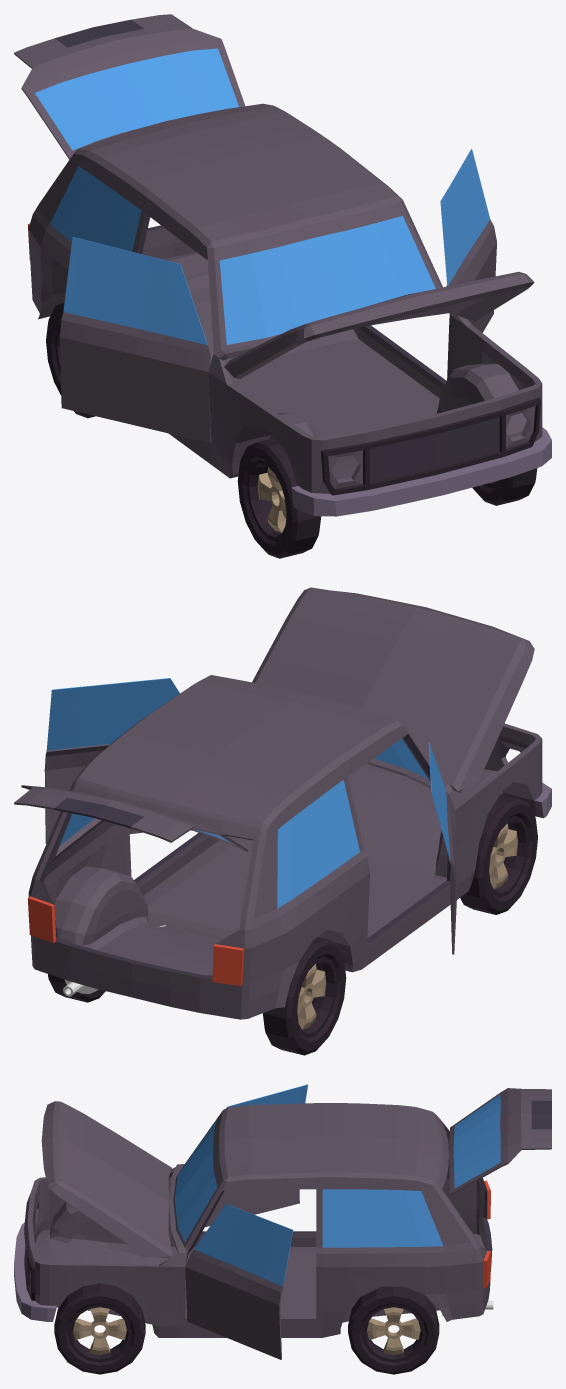
File: Нива днище толстое.fbx
3 views of the same model, one above another, from view 1: azimuth 30°, elevation 25°; view 2: azimuth 150°, elevation 25°; view 3: azimuth 270°, elevation 25° (orthographic). The views are drawn at different scales.
Visible parts, largest first — view 1: Кузов днище, Лобовое стекло, Дверь прав, Заднее стекло, Окно правой двери, Багажник, Капот, Колесо перед правое, Заднее окно, Окно левой двери, Дверь лев, Колесо перед лев (+1 smaller); view 2: Кузов днище, Капот, Заднее окно, Окно левой двери, Колесо заднее прав, Колесо перед правое, Багажник, Дверь лев, Дверь прав, Окно правой двери, Лобовое стекло; view 3: Кузов днище, Капот, Дверь лев, Заднее окно, Колесо перед лев, Колесо заднее лев, Окно левой двери, Багажник, Заднее стекло, Лобовое стекло, Дверь прав, Окно правой двери.
Boxes of the visible parts, x1,y1,x2,y2 form: Кузов днище: (28,103,551,516); Лобовое стекло: (219,216,435,344); Дверь прав: (60,312,211,443); Заднее стекло: (35,48,238,150); Окно правой двери: (63,236,207,344); Багажник: (14,14,245,159); Капот: (224,271,534,378); Колесо перед правое: (237,437,321,558); Заднее окно: (50,166,141,251); Окно левой двери: (440,149,489,285); Дверь лев: (446,219,496,332); Колесо перед лев: (472,468,537,505); Кузов днище: (28,675,551,1019); Капот: (252,587,534,791); Заднее окно: (60,780,359,908); Окно левой двери: (46,678,179,750); Колесо заднее прав: (262,937,346,1055); Колесо перед правое: (460,794,537,914); Багажник: (14,785,248,851); Дверь лев: (44,744,142,843); Дверь прав: (446,791,457,954); Окно правой двери: (428,742,450,859); Лобовое стекло: (374,738,428,778); Кузов днище: (14,1103,492,1337); Капот: (41,1101,171,1257); Дверь лев: (185,1249,283,1359); Заднее окно: (322,1189,443,1247); Колесо перед лев: (54,1283,145,1374); Колесо заднее лев: (348,1286,439,1374); Окно левой двери: (194,1203,293,1286); Багажник: (449,1088,551,1195); Заднее стекло: (453,1094,500,1187); Лобовое стекло: (174,1119,217,1242); Дверь прав: (205,1189,299,1227); Окно правой двери: (226,1084,307,1107).
Size of the model in its own units: 233 by 148 by 334.
